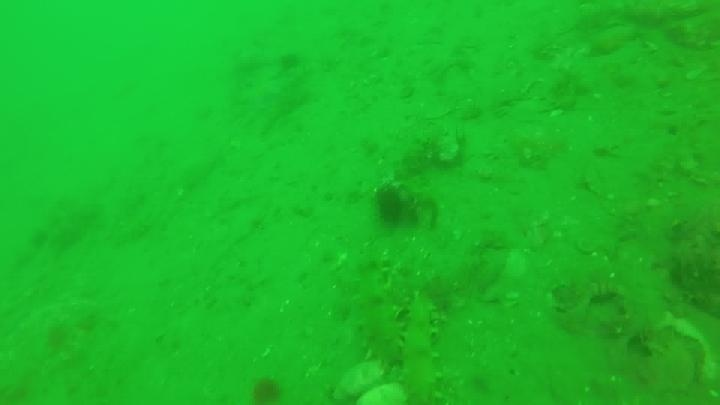echinus: (371, 184, 409, 228), (249, 375, 284, 404)
holothurian: (344, 255, 408, 369), (397, 287, 446, 405)
